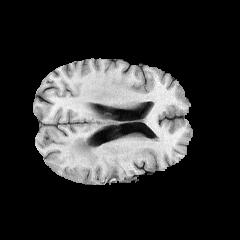glioma: (71, 138, 98, 167)
